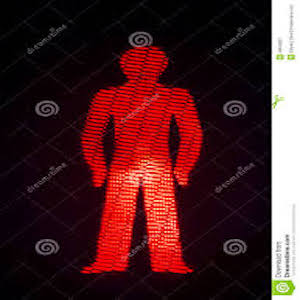red: (67, 38, 213, 272)
